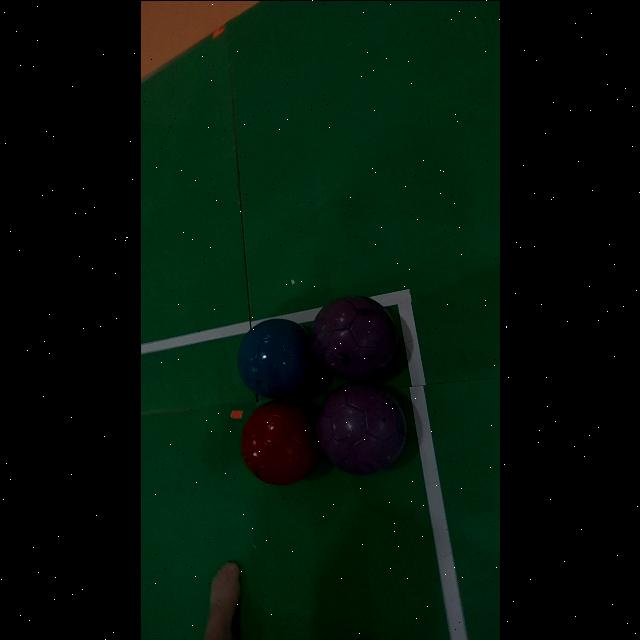B: (236, 320, 317, 398)
P: (316, 380, 406, 474), (311, 294, 397, 379)
R: (240, 398, 321, 484)
